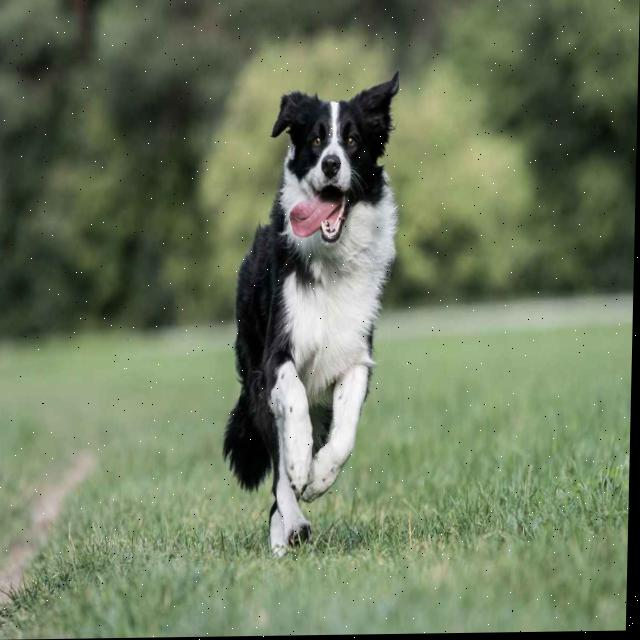BORDER_COLLIE: (211, 58, 424, 556)
